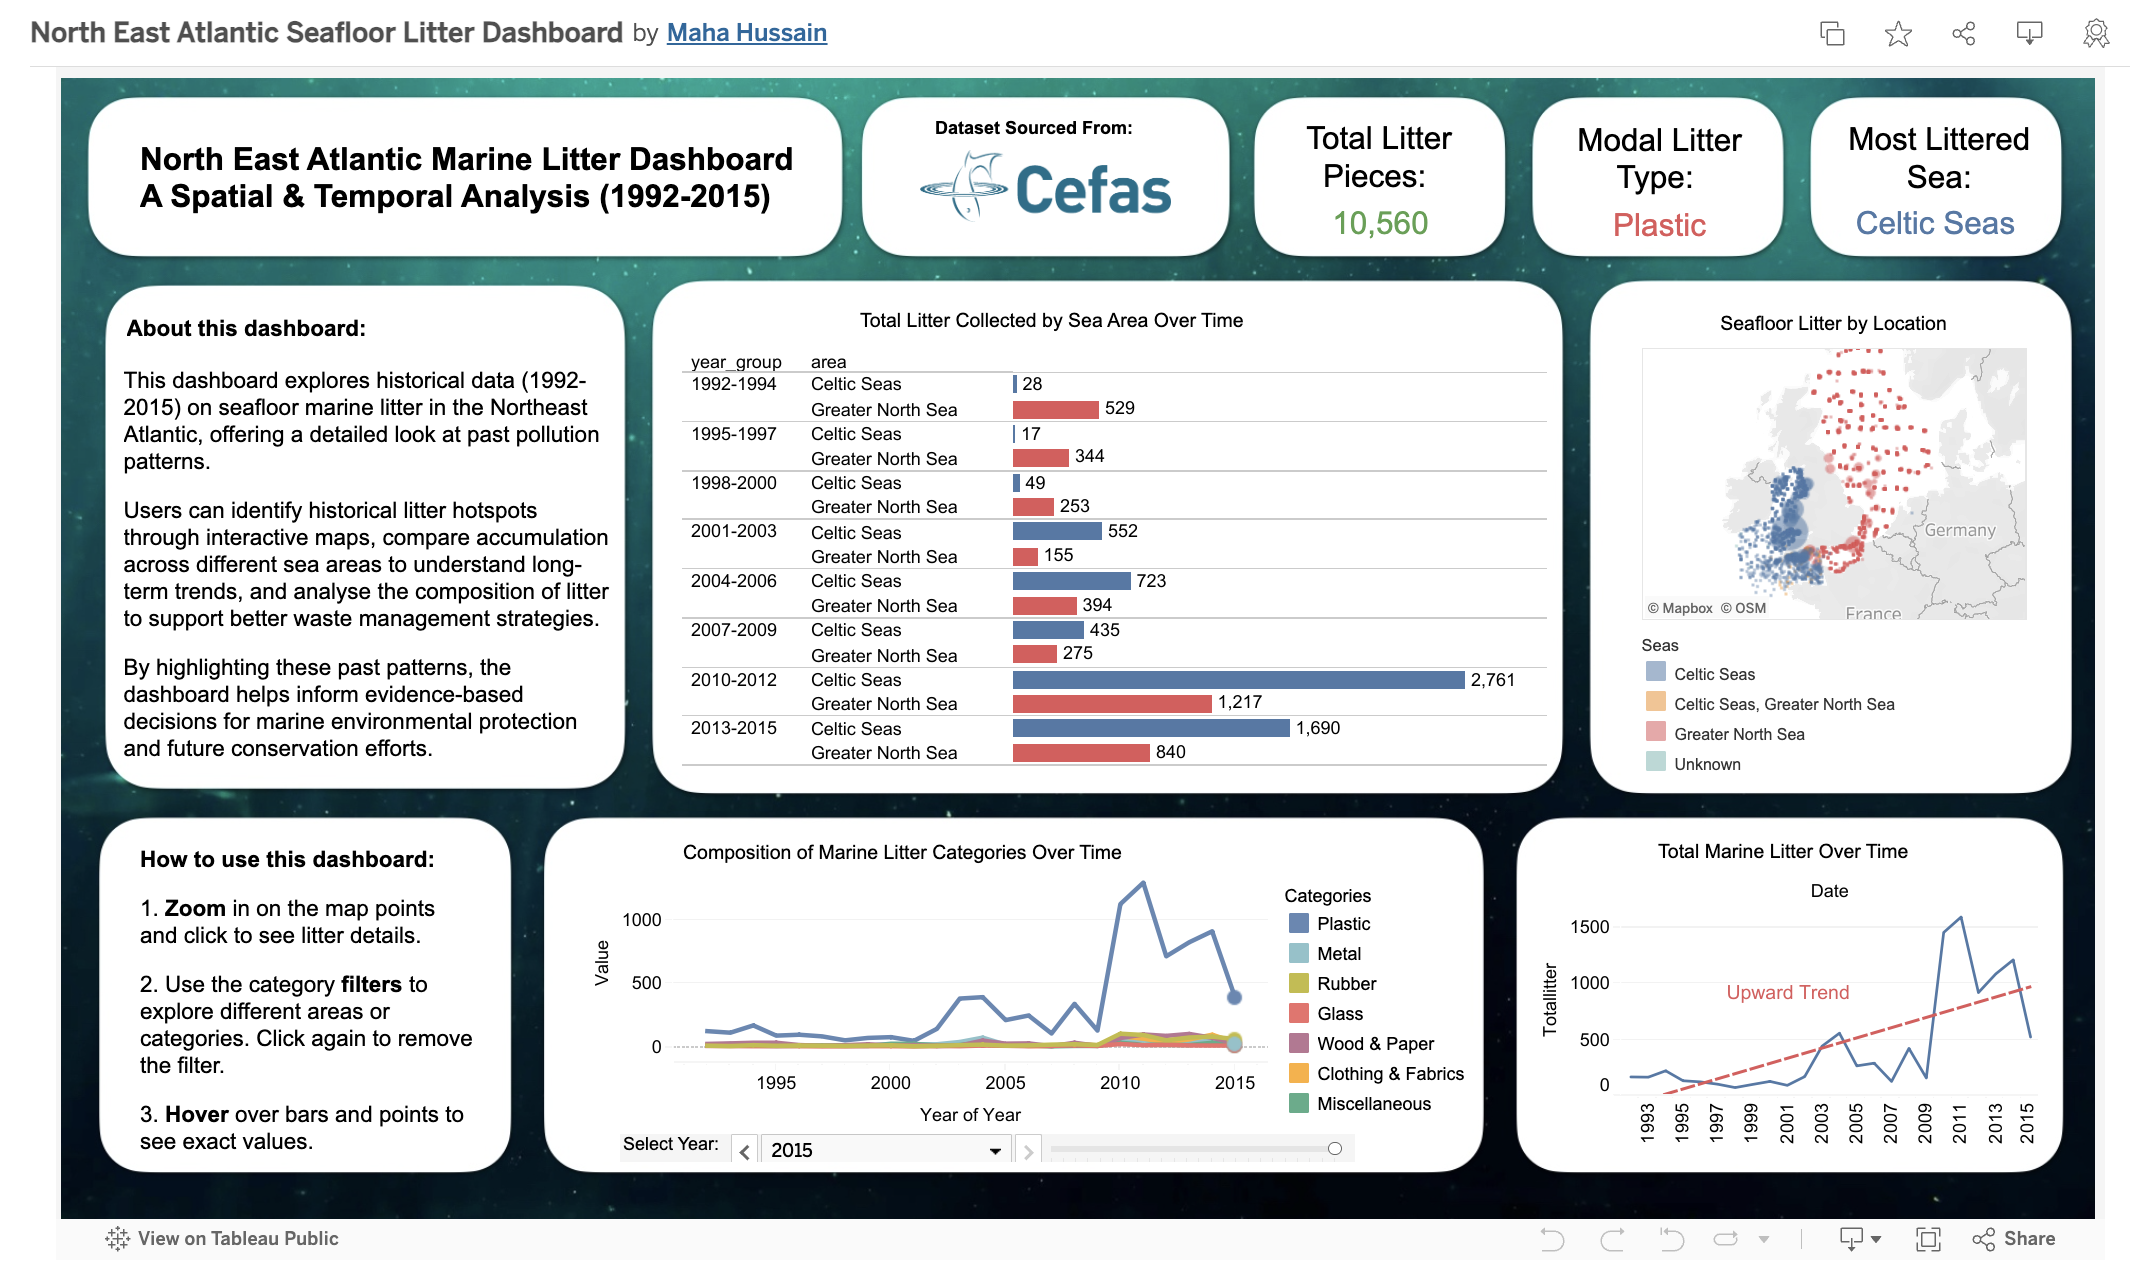

Layout of this report page (visuals, bound fields, positions):
{"tool":"tableau","page":{"name":"Dashboard 11 (5)","canvas":[1366,768],"ordinal":0},"visuals":[{"type":"image","param":"Image/sea.001.jpeg","box":[3,7,1359,763]},{"type":"title","box":[8,8,1350,35]},{"type":"text","box":[1186,8,139,106]},{"type":"text","box":[812,14,140,93]},{"type":"text","box":[999,15,140,93]},{"type":"text","box":[586,25,160,30]},{"type":"text","box":[56,42,448,64]},{"type":"image","param":"Image/Cefas-logo.png","box":[576,55,167,66]},{"type":"text","box":[813,56,140,96]},{"type":"text","box":[1183,56,140,96]},{"type":"text","box":[999,57,140,96]},{"type":"text","box":[536,151,403,34]},{"type":"worksheet","title":"map","mark":"Circle","rows":["Latitude"],"cols":["Longitude"],"box":[1057,157,257,212]},{"type":"text","box":[45,166,325,330]},{"type":"text","box":[47,167,205,14]},{"type":"worksheet","title":"over time","mark":"Automatic","rows":["Calculation_221802339387650054","area"],"cols":["totallitter"],"box":[417,183,577,283]},{"type":"legend","title":"map","param":"[federated.0x7v7631474lda1brsxy51rn3jwb].[none:area:nk]","box":[1057,379,251,114]},{"type":"text","box":[418,507,403,32]},{"type":"worksheet","title":"total_trend","mark":"Automatic","rows":["totallitter"],"cols":["date"],"box":[982,509,339,216]},{"type":"text","box":[56,510,223,224]},{"type":"worksheet","title":"animation","mark":"Circle","cols":["year"],"box":[350,533,458,179]},{"type":"legend","title":"animation","param":"[federated.1l6h4ct0hsccwt187fy690mj9vl9].[:Measure Names]","box":[819,546,157,155]},{"type":"currpage","title":"animation","box":[376,711,490,19]}]}

Visuals, with their boxes on the page's 1366x768 design canvas (x1, y1, x2, y2). These are canvas units, not pixel positions in the 2150x1286 screenshot, which may show the page scaled, cropped or inside an application window:
image: l=3, t=7, r=1362, b=770
title: l=8, t=8, r=1358, b=43
text: l=1186, t=8, r=1325, b=114
text: l=812, t=14, r=952, b=107
text: l=999, t=15, r=1139, b=108
text: l=586, t=25, r=746, b=55
text: l=56, t=42, r=504, b=106
image: l=576, t=55, r=743, b=121
text: l=813, t=56, r=953, b=152
text: l=1183, t=56, r=1323, b=152
text: l=999, t=57, r=1139, b=153
text: l=536, t=151, r=939, b=185
"map" worksheet (Circle marks): l=1057, t=157, r=1314, b=369
text: l=45, t=166, r=370, b=496
text: l=47, t=167, r=252, b=181
"over time" worksheet: l=417, t=183, r=994, b=466
"map" legend: l=1057, t=379, r=1308, b=493
text: l=418, t=507, r=821, b=539
"total_trend" worksheet: l=982, t=509, r=1321, b=725
text: l=56, t=510, r=279, b=734
"animation" worksheet (Circle marks): l=350, t=533, r=808, b=712
"animation" legend: l=819, t=546, r=976, b=701
"animation" currpage: l=376, t=711, r=866, b=730
